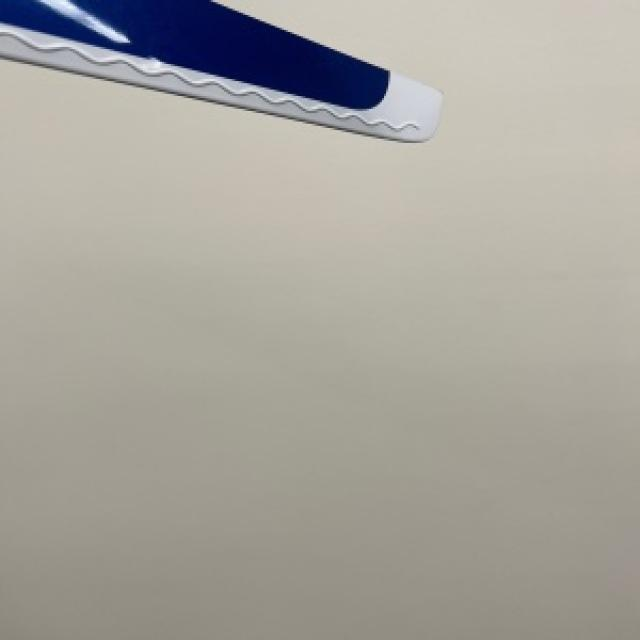healthy: (0, 0, 439, 139)
